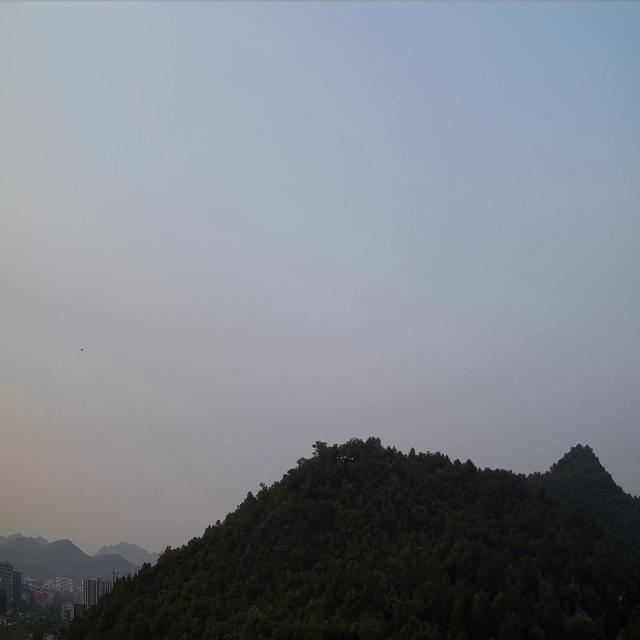UAV: (336, 454, 356, 464)
